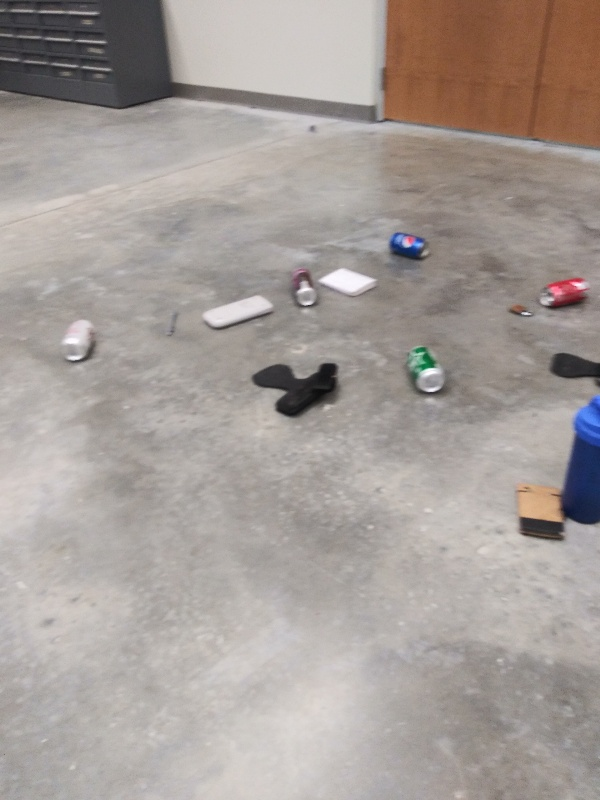can: (404, 341, 449, 395), (57, 317, 101, 366), (533, 275, 595, 308), (288, 263, 322, 311), (384, 228, 433, 261)
